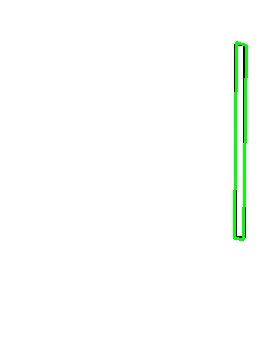line_segment: (233, 42, 247, 240)
